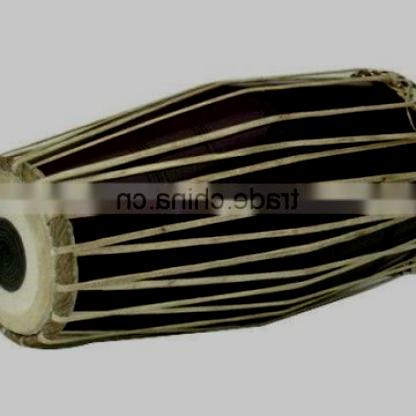Mridangam: (2, 57, 416, 369)
